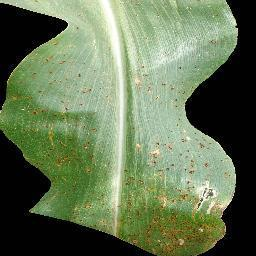Corn_Common_Rust: (1, 26, 98, 210), (122, 137, 238, 208), (100, 210, 230, 254), (130, 62, 197, 107), (171, 107, 205, 136), (195, 36, 224, 48)
